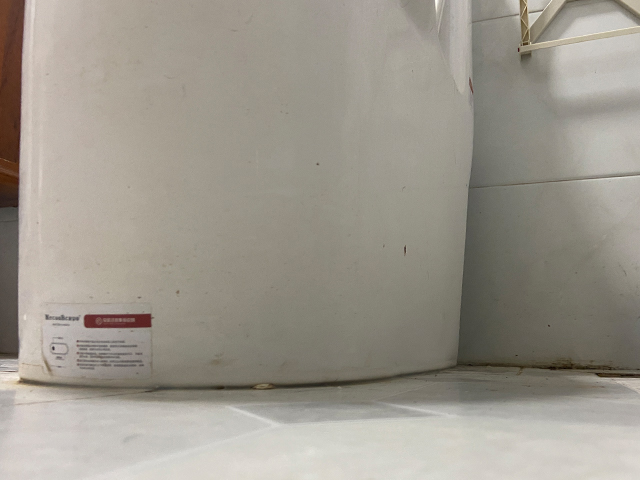closestool: (15, 1, 478, 392)
